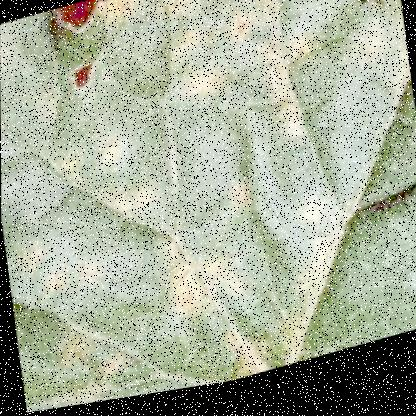Anthracnose: (1, 115, 179, 319), (250, 0, 341, 166), (158, 217, 262, 336), (90, 0, 223, 47)
